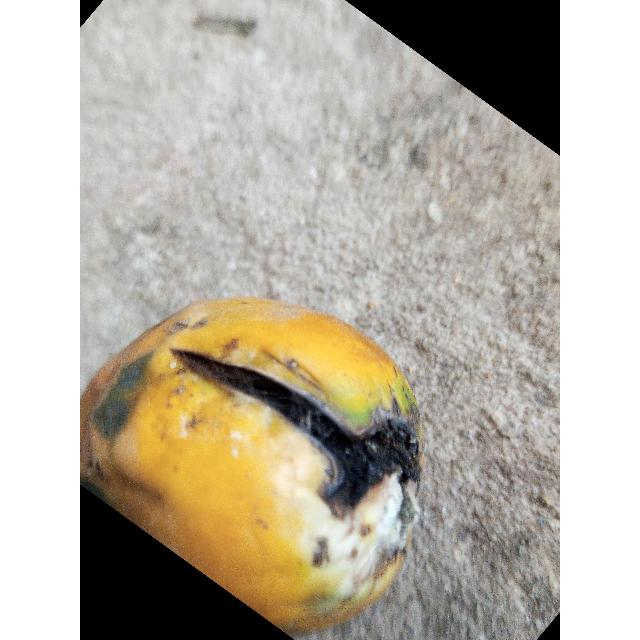damaged: (80, 297, 421, 640)
